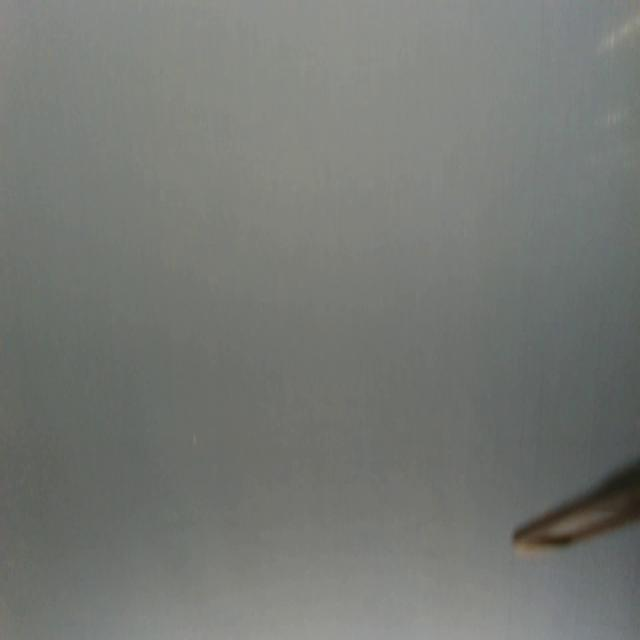hole: (192, 430, 199, 450)
